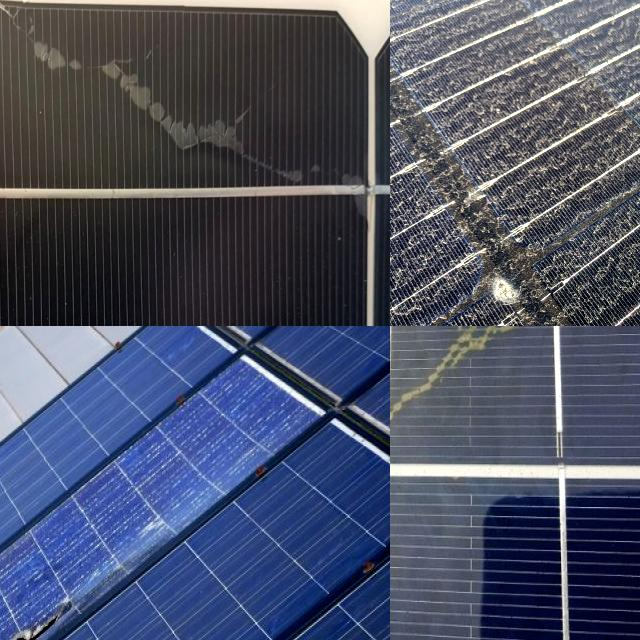bird: (455, 228, 558, 323)
dust: (541, 68, 640, 317), (390, 37, 524, 199), (544, 0, 640, 49)
shadow: (0, 3, 353, 181), (390, 326, 574, 477)
